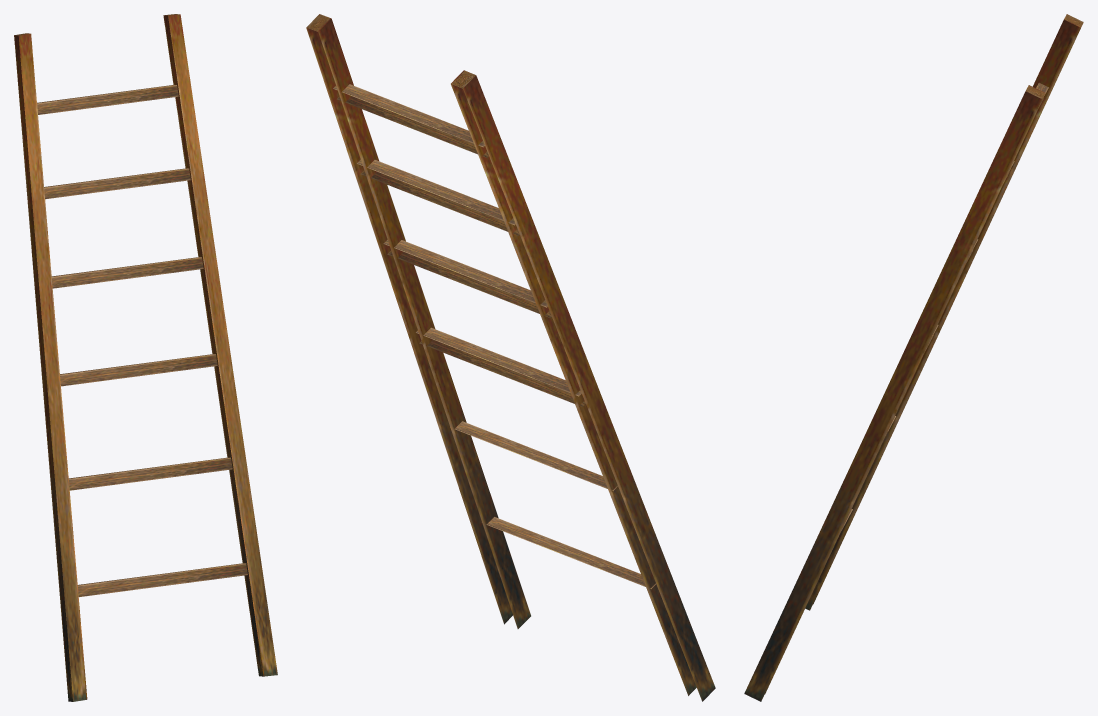
The model's file is xsz_zugang_1.FBX.
The picture shows the model from 3 angles, left to right: view 1: azimuth 30°, elevation 25°; view 2: azimuth 150°, elevation 25°; view 3: azimuth 270°, elevation 25°; orthographic projection. The views are drawn at different scales.
Visible parts, largest first — view 1: xsz_zugang_1; view 2: xsz_zugang_1; view 3: xsz_zugang_1.
Boxes of the visible parts, left/top/right/bottom form: xsz_zugang_1: left=14, top=14, right=277, bottom=701; xsz_zugang_1: left=306, top=14, right=715, bottom=701; xsz_zugang_1: left=744, top=14, right=1083, bottom=701.
Bounding box in the file's own units: 134 × 166 × 338.
